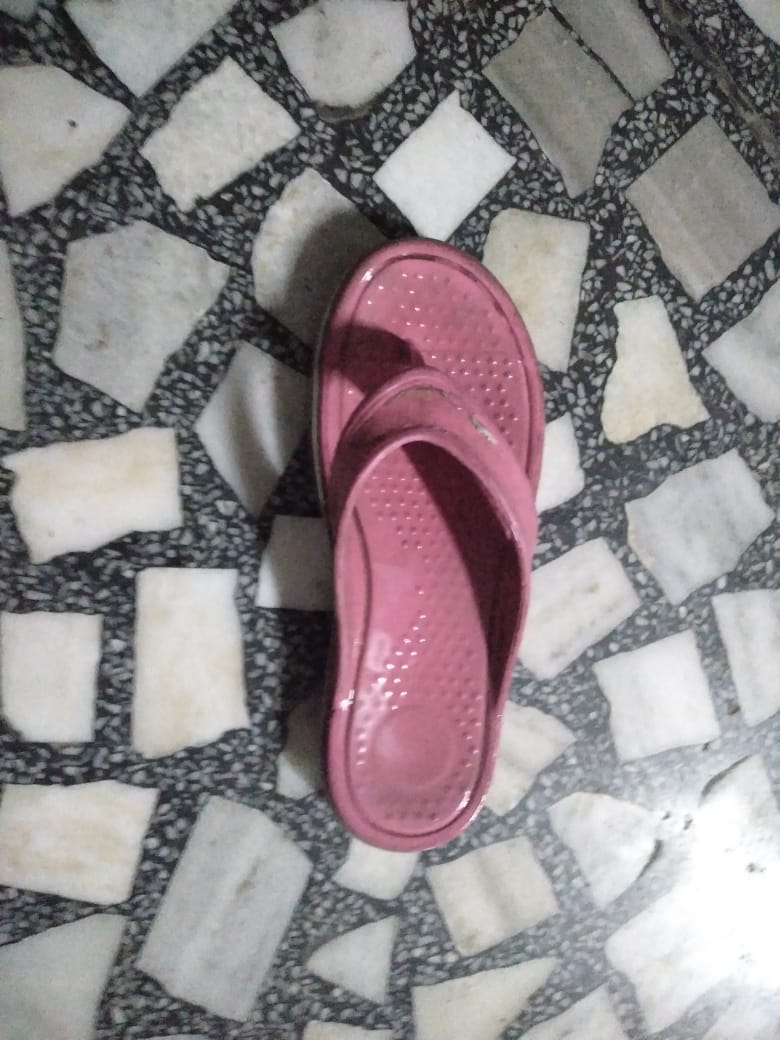Footwear: (252, 210, 566, 878)
